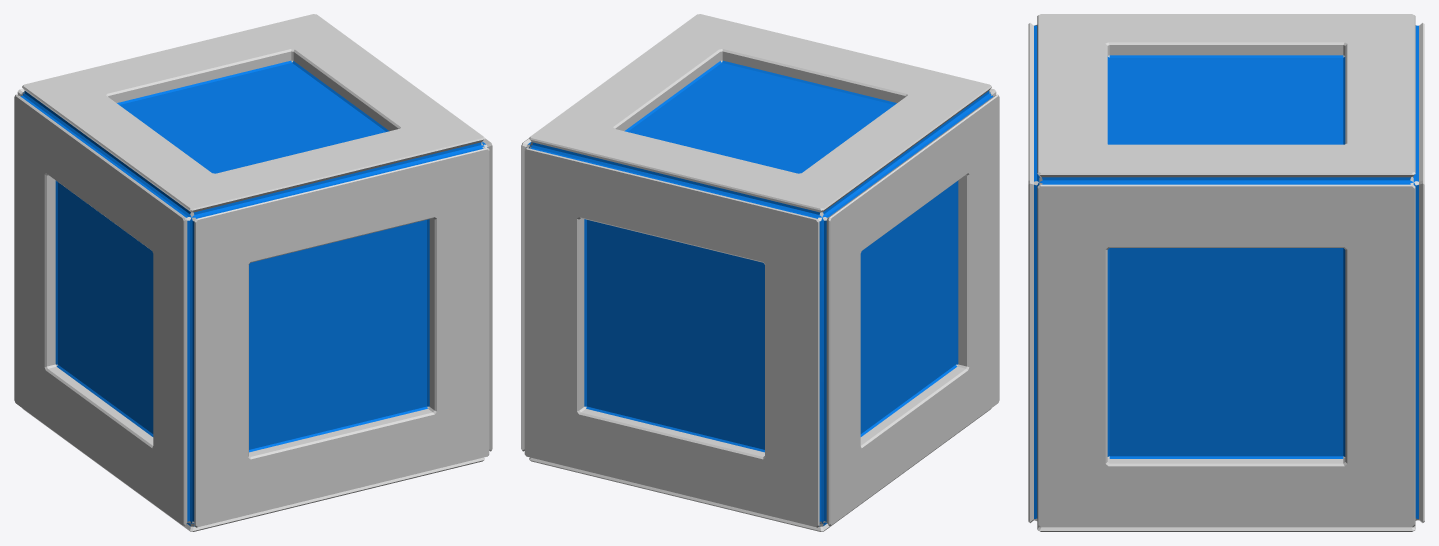
3 views of the same model, side by side, from view 1: azimuth 30°, elevation 25°; view 2: azimuth 150°, elevation 25°; view 3: azimuth 270°, elevation 25° (orthographic). The views are drawn at different scales.
Parts seen in each view (by area): view 1: Box; view 2: Box; view 3: Box.
Part boxes in pixels (x1,y1,x2,y2): Box: (14, 14, 492, 531); Box: (521, 14, 999, 531); Box: (1028, 14, 1424, 531).
Bounding box in the file's own units: 100 × 100 × 100.
